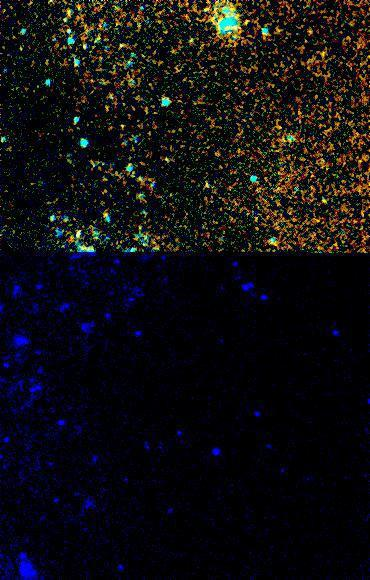star: (91, 200, 121, 230)
